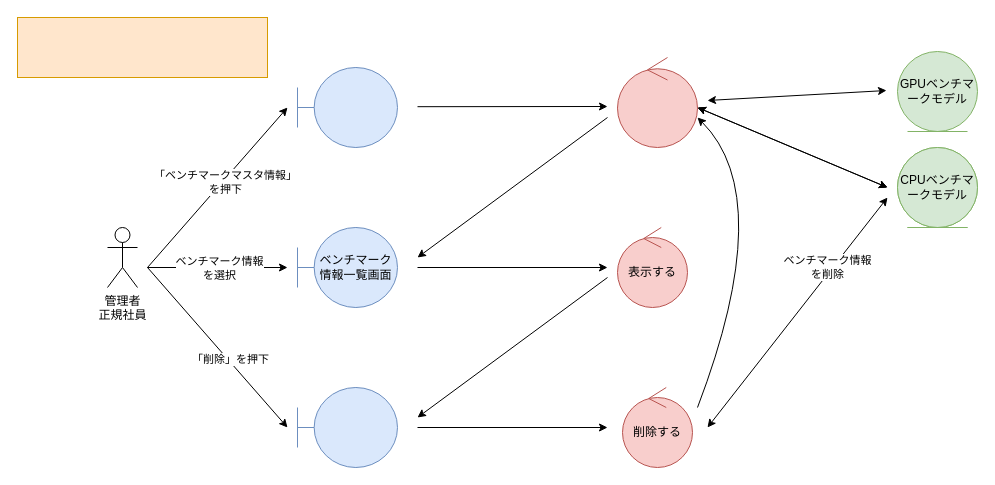
Some shapes in this 995 by 485 pixel diagram are drawn without their labels. The centre of each missing label's shape, as x and y in pixels:
ベンチマーク マスタ情報 を取得する: (x=657, y=102)
ベンチマークマスタ_削除: (x=142, y=47)
ログイン済 ホーム画面: (x=347, y=107)
詳細画面: (x=347, y=427)
